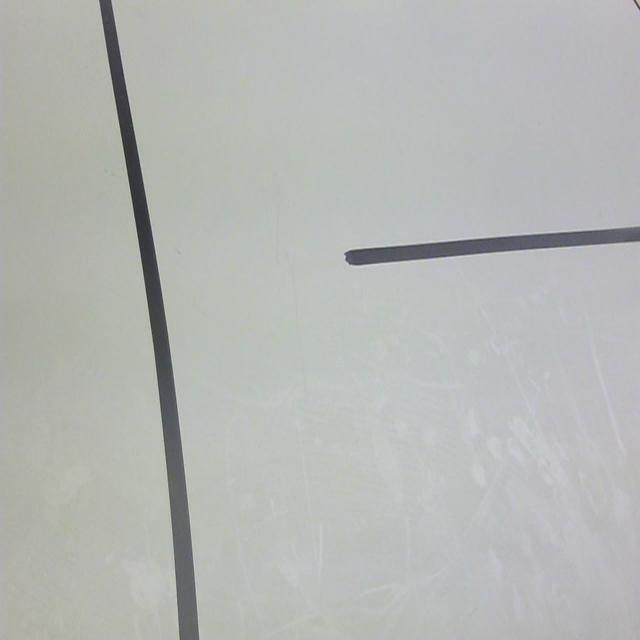tape: (88, 0, 210, 640), (322, 192, 640, 284)
